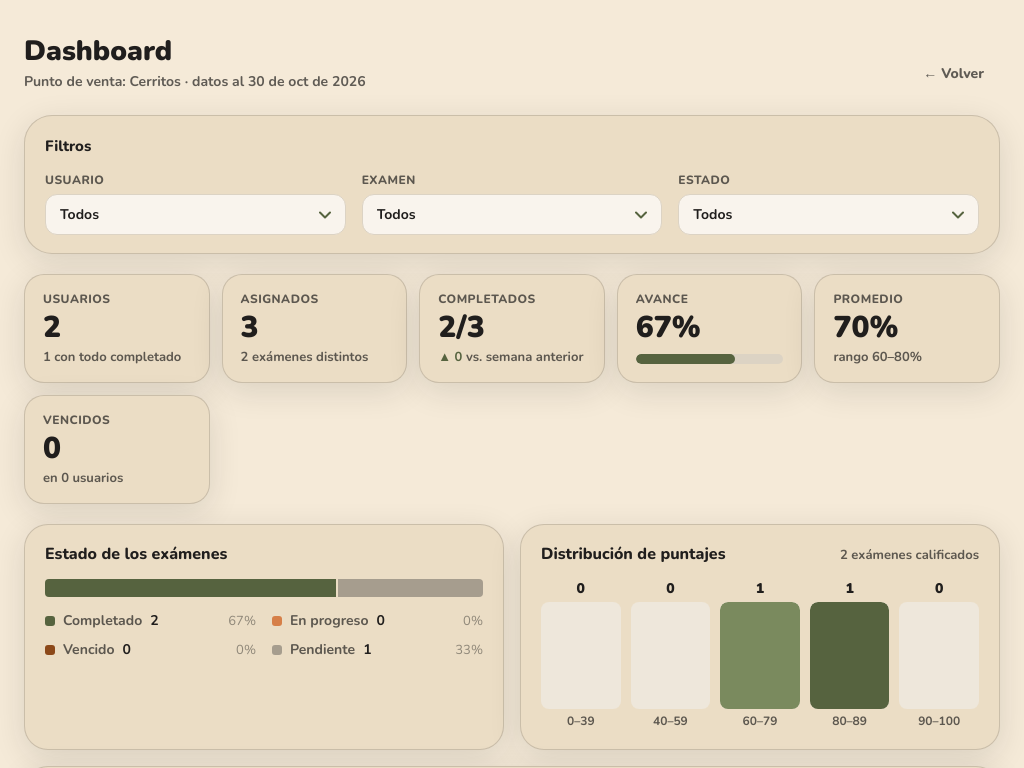
Test: AdminDashboardView › filters and charts › shows the no-match message and clears filters
Step 1. Select "Beto" in the dropdown with test id "filter-user" → (195, 214), box x1=45 y1=194 x2=346 y2=235
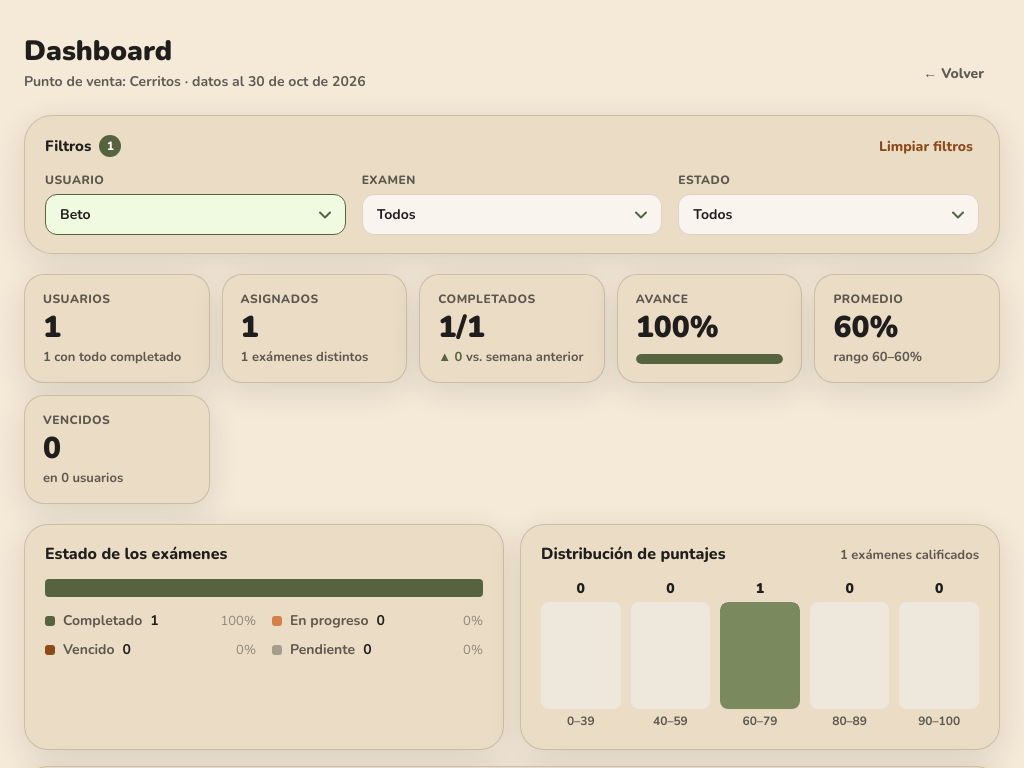
Step 2. Select "Higiene" in the dropdown with test id "filter-quiz" → (512, 214), box x1=362 y1=194 x2=662 y2=235
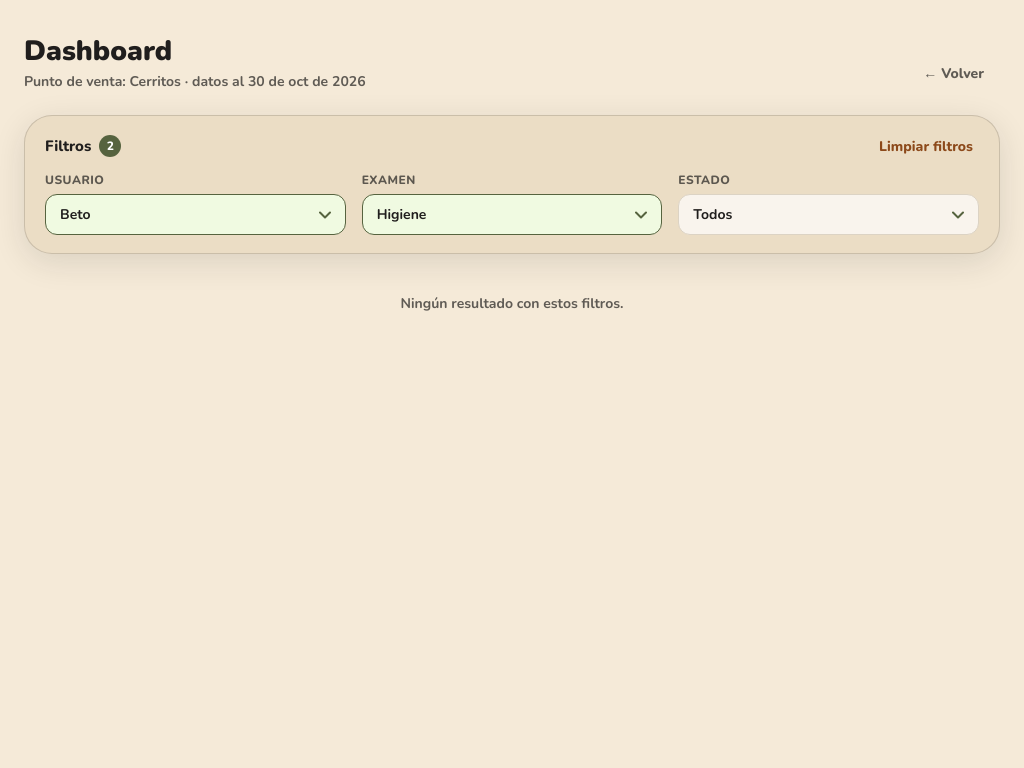
Result: the text "Ningún resultado con estos filtros." is shown at x1=400 y1=294 x2=624 y2=313
Step 3. Click the button with test id "clear-filters" → (926, 146), box x1=873 y1=132 x2=979 y2=160
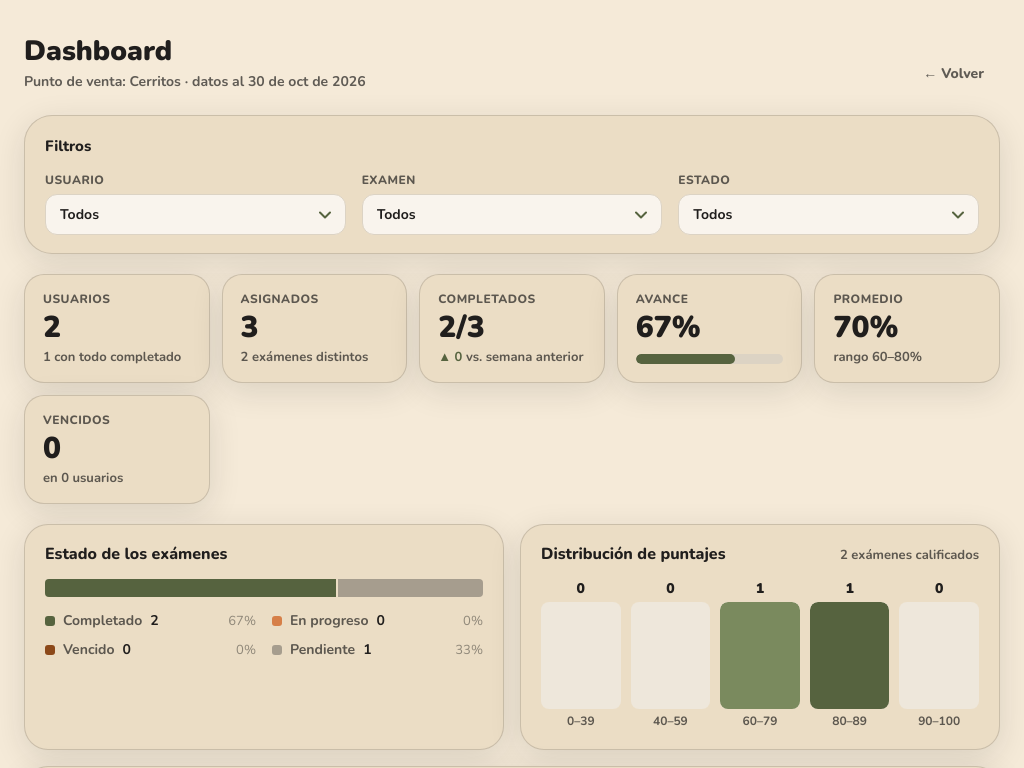
Result: the text with test id "total-users" reads "2" at x1=43 y1=307 x2=61 y2=348
